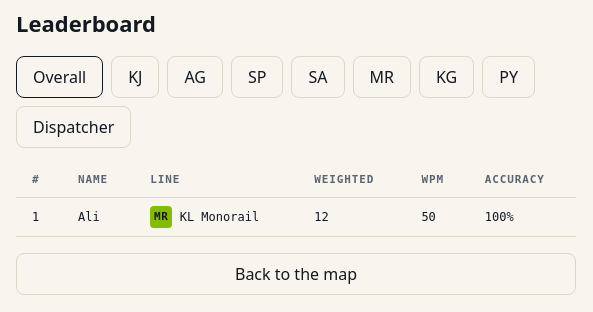
LeaderboardScreen › switches to a per-line board without a line column
Click the tab "MR" at [382, 77], box [352,56,411,98]
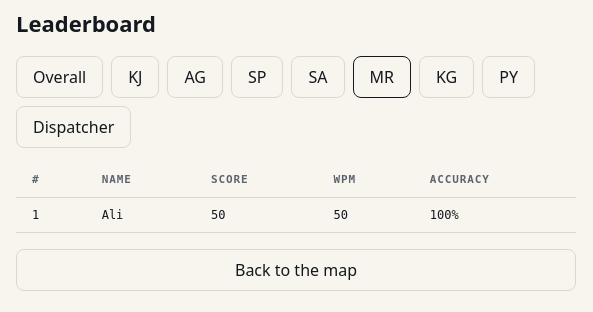
Expected: the text "Ali" is shown, [86,197,195,232]
Expected: the column heading "Line" is gone
